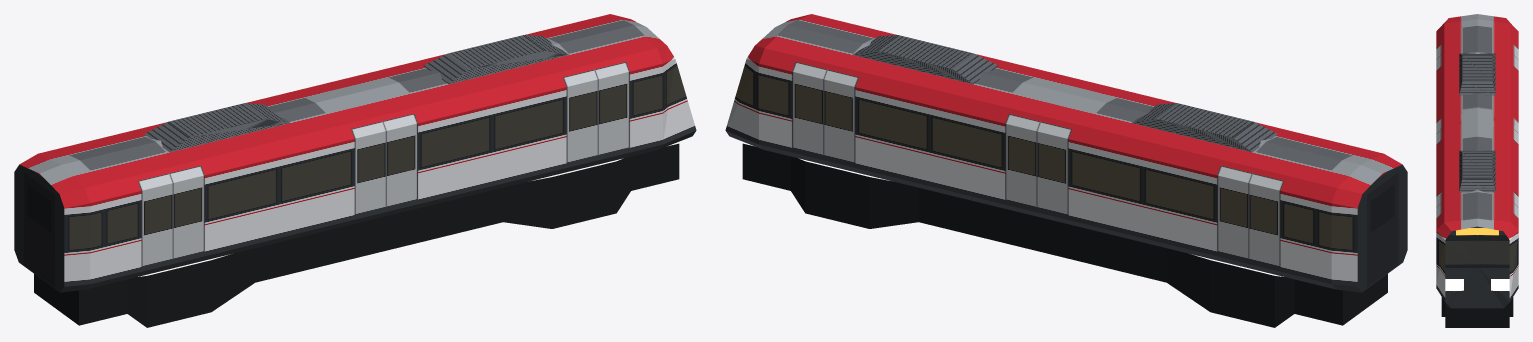
Rendered from val_208__cab.glb.
3 views of the same model, side by side, from view 1: azimuth 30°, elevation 25°; view 2: azimuth 150°, elevation 25°; view 3: azimuth 270°, elevation 25° (orthographic). The views are drawn at different scales.
Visible parts, largest first — view 1: val_208__cab; view 2: val_208__cab; view 3: val_208__cab.
Boxes of the visible parts, bbox=[...] form: val_208__cab: bbox=[14, 14, 696, 327]; val_208__cab: bbox=[725, 14, 1407, 327]; val_208__cab: bbox=[1436, 14, 1518, 327].
Size of the model in its own units: 13 by 3.25 by 2.06.
1 material, 1 textured.
